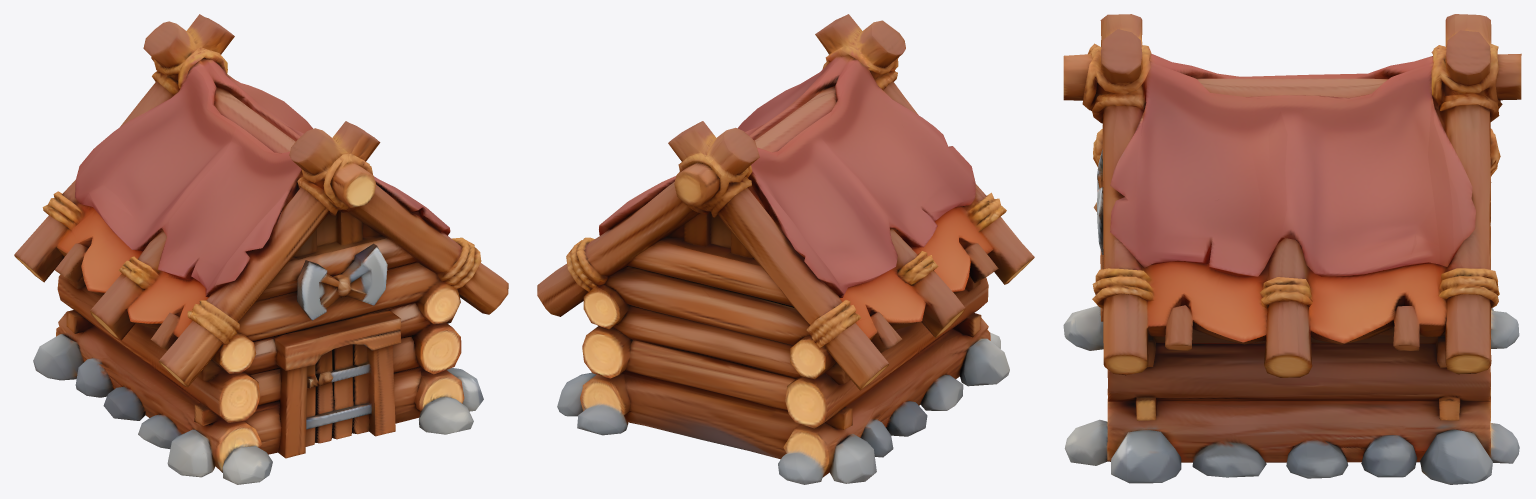
The model's file is base_basic_shaded.fbx.
3 views of the same model, side by side, from view 1: azimuth 30°, elevation 25°; view 2: azimuth 150°, elevation 25°; view 3: azimuth 270°, elevation 25° (orthographic). The views are drawn at different scales.
Visible parts, largest first — view 1: model; view 2: model; view 3: model.
Part boxes in pixels (box(x1,y1,x2,y2)): model: box(14, 14, 508, 484); model: box(537, 14, 1034, 484); model: box(1063, 14, 1521, 484).
Bounding box in the file's own units: 189 × 166 × 184.
